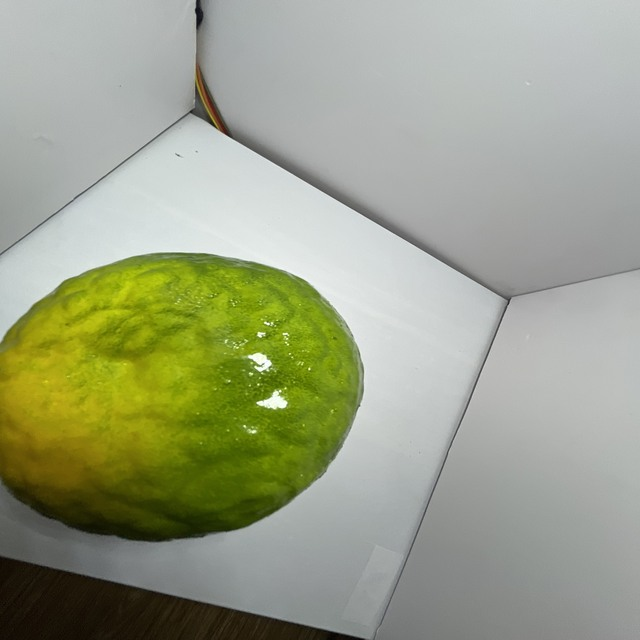Cam xanh: (0, 249, 377, 549)
